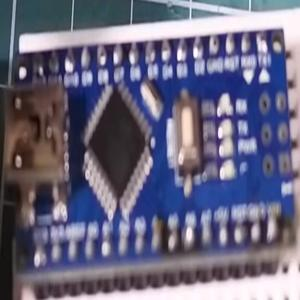duino: (8, 32, 299, 282)
